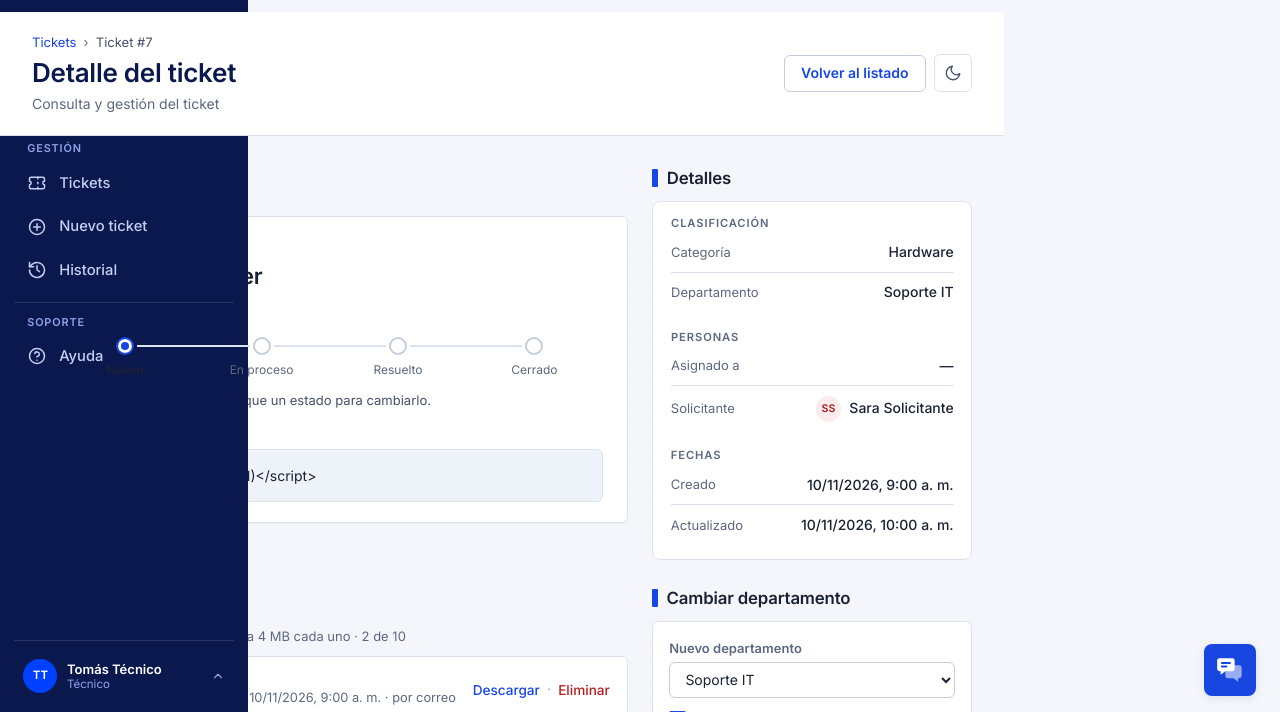
Detalle del ticket (/tickets/:id) › recorrido de estados › tocar un paso, confirmar con motivo y cambiar el estado
(page scrolled)
Expected: the heading "Impresora sin tóner" is shown, x1=57 y1=262 x2=262 y2=289
Expected: the text "Toque un estado para cambiarlo." is shown, x1=229 y1=392 x2=431 y2=408
Click the button with aria-label "Pasar el ticket a «Resuelto»". click: (398, 360)
box: x1=330 y1=337 x2=466 y2=383
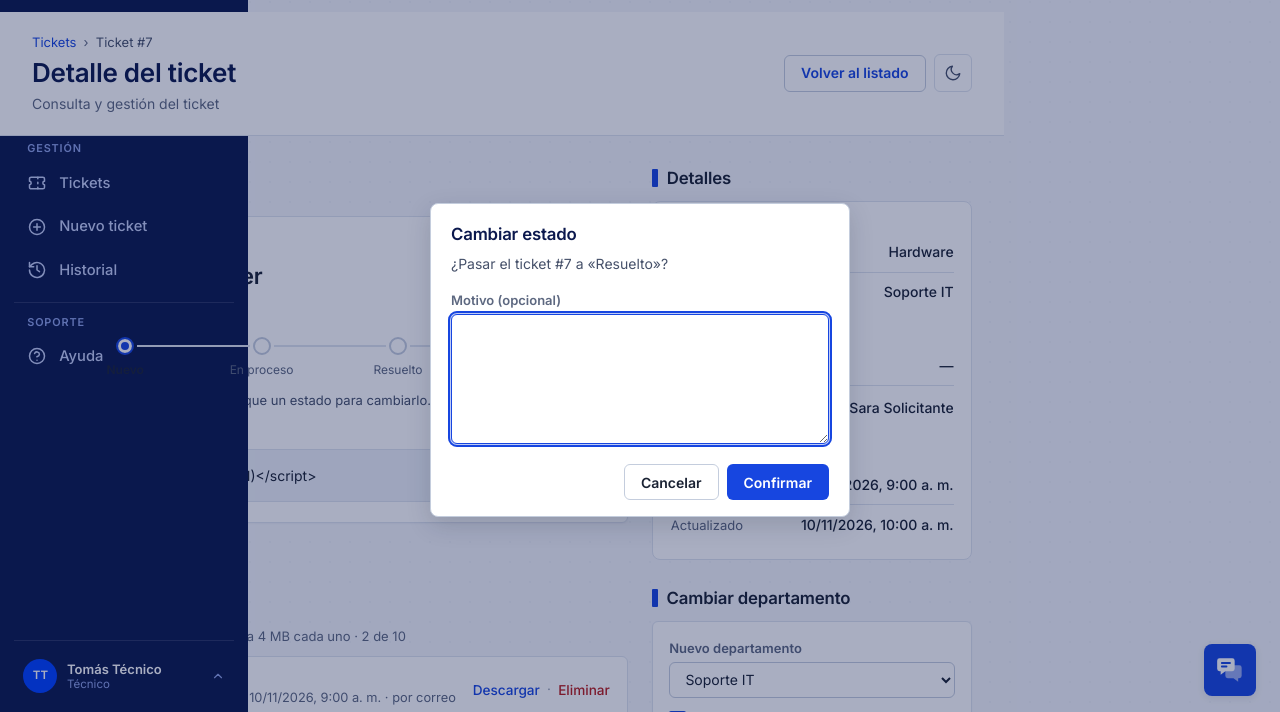
Expected: the dialog "Cambiar estado" shows "¿Pasar el ticket #7 a «Resuelto»?", x1=451 y1=255 x2=668 y2=272
Type "  cambié el tóner " into the text box labelled "Motivo (opcional)". click: (640, 379)
box: x1=451 y1=314 x2=829 y2=444
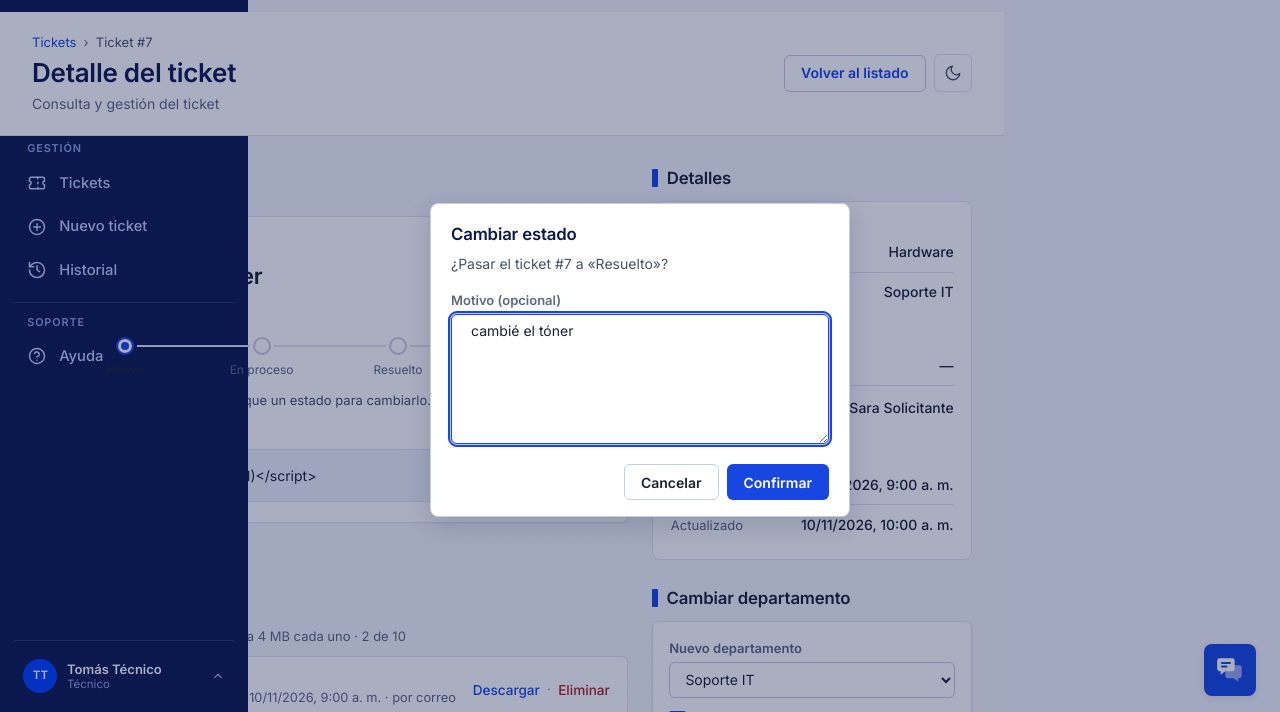
Click the button "Confirmar". click: (778, 482)
box: x1=726 y1=464 x2=829 y2=500
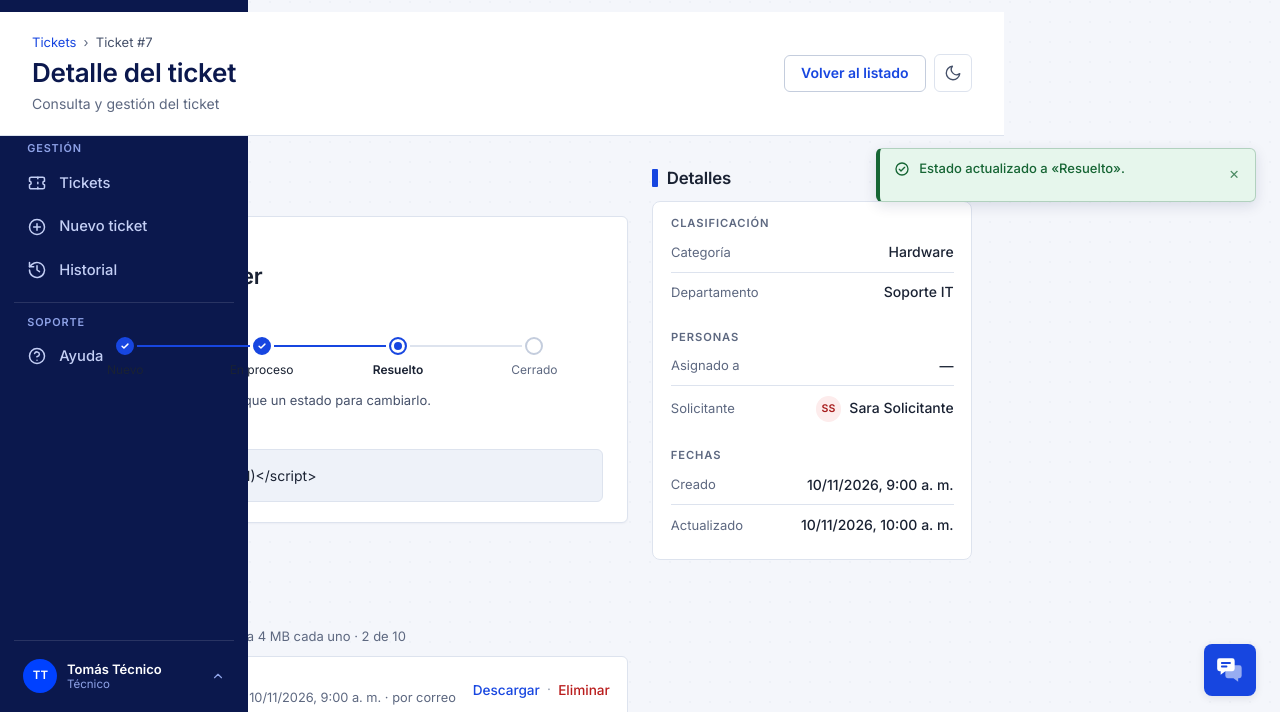
Expected: the button with aria-label "Pasar el ticket a «En proceso»" is shown, x1=193 y1=337 x2=330 y2=383
Expected: the text "Estado actualizado a «Resuelto»." is shown, x1=919 y1=160 x2=1125 y2=176
